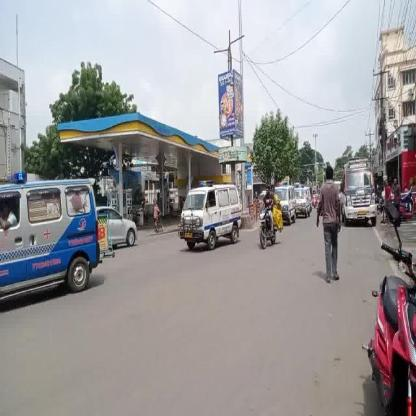priority: (0, 160, 104, 304), (175, 178, 245, 260), (342, 153, 380, 233), (275, 177, 293, 227)
